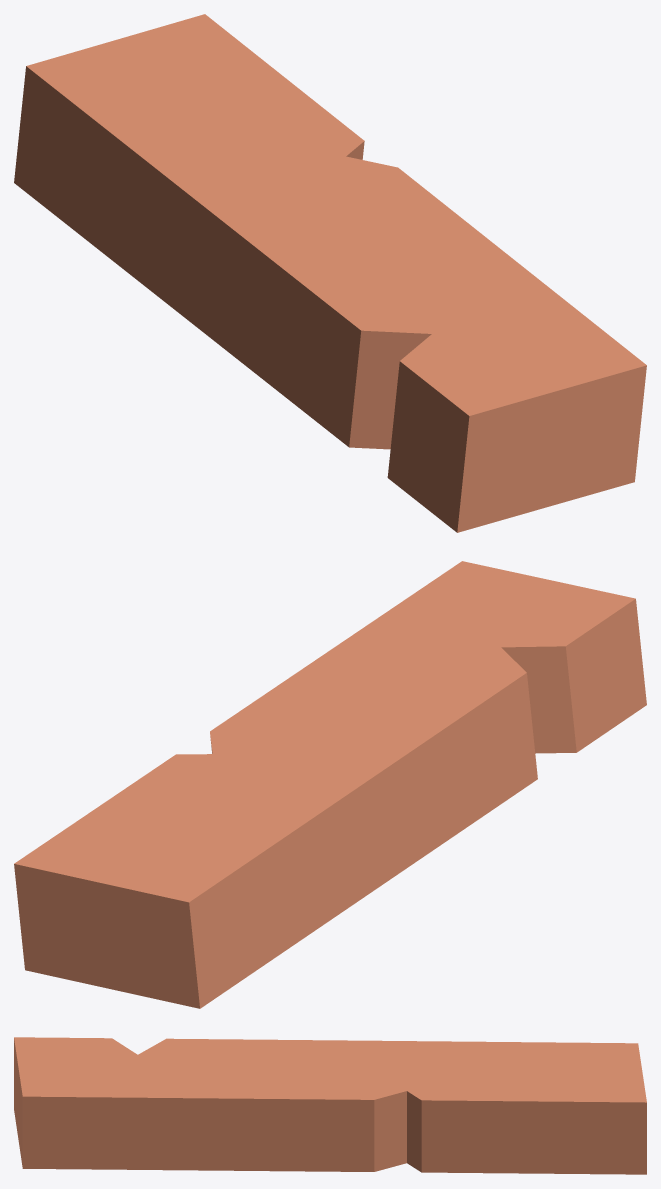
Rendered from 2ndFloorSlabs.fbx.
3 renders of one model, top to bottom at view 1: azimuth 30°, elevation 25°; view 2: azimuth 150°, elevation 25°; view 3: azimuth 270°, elevation 25°, orthographic. The views are drawn at different scales.
Visible parts, largest first — view 1: Bridge3.003; view 2: Bridge3.003; view 3: Bridge3.003.
Boxes of the visible parts, x1=… form: Bridge3.003: x1=14, y1=14, x2=646, y2=532; Bridge3.003: x1=14, y1=561, x2=646, y2=1008; Bridge3.003: x1=14, y1=1037, x2=646, y2=1174.
Bounding box in the file's own units: 401 × 205 × 1486.
